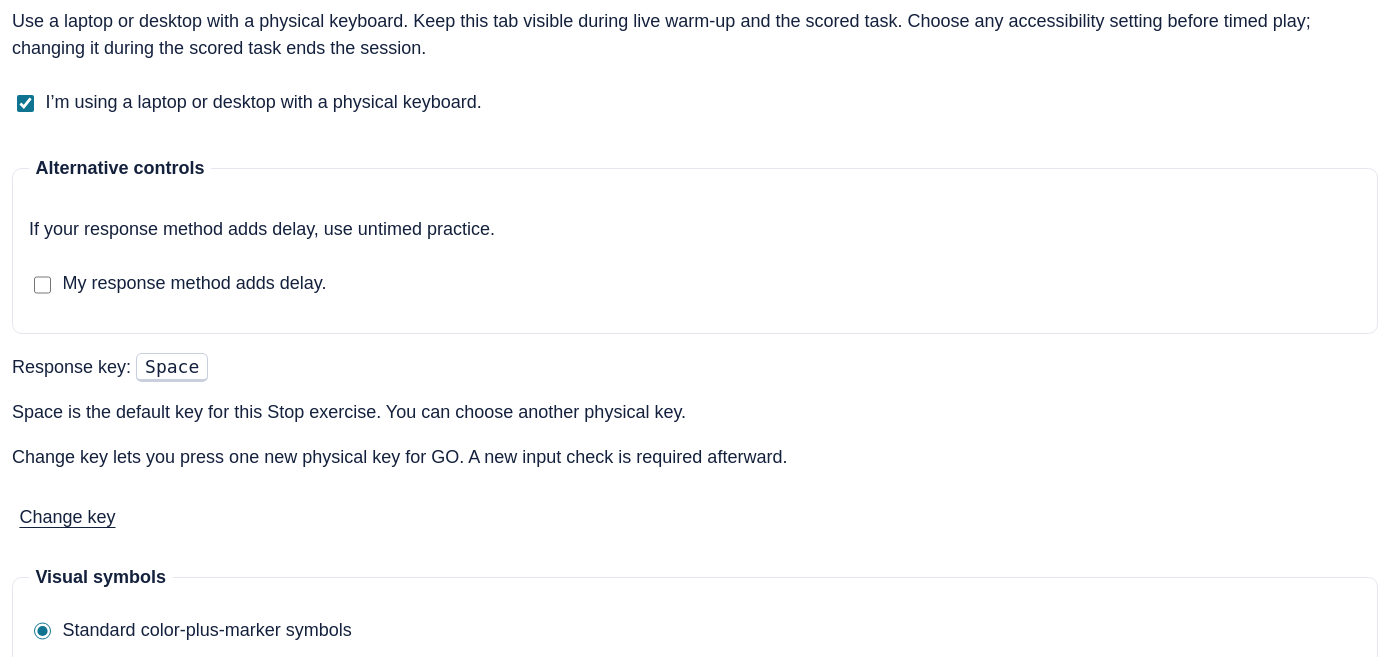
Test: preflight remapping controls › rejects prohibited input {"key":"Escape","code":"Escape"} without changing the binding
Click the button "Change key" at (67, 517), box 12,489 -> 123,545
(page scrolled)
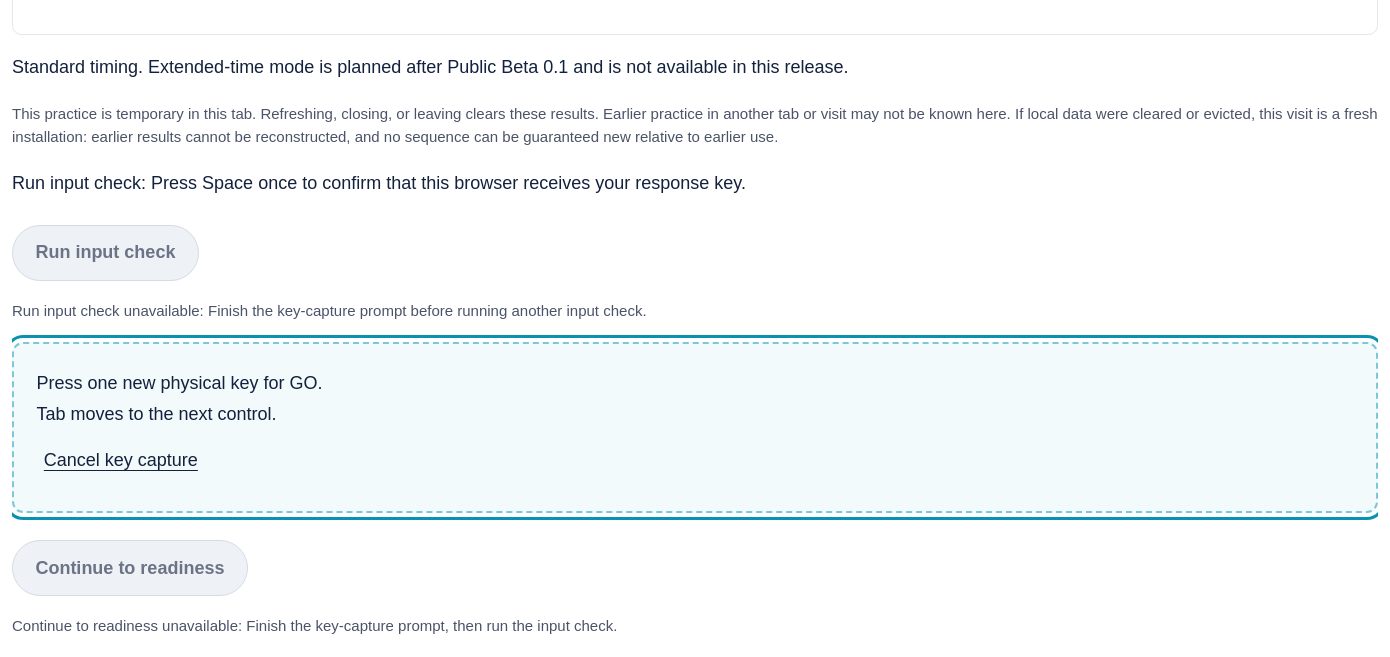
Press Escape in the element named "Choose a response key", box 12,342 -> 1378,513
(page scrolled)
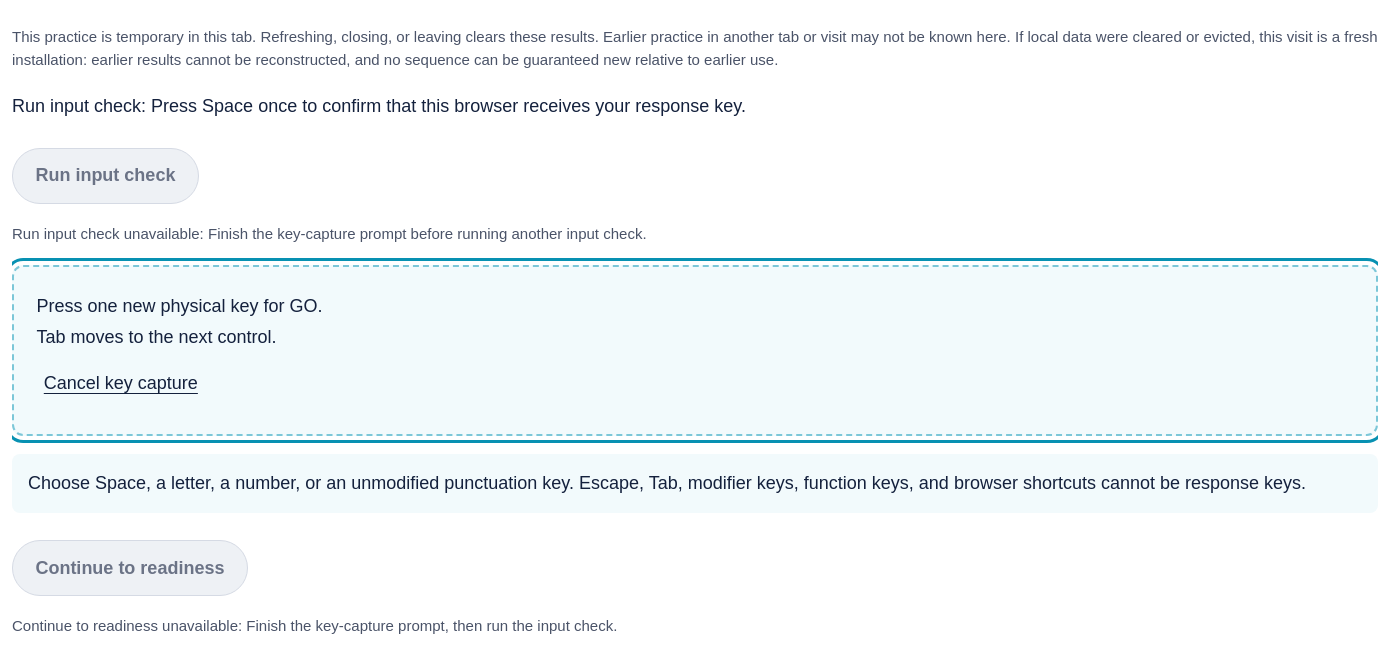
Check: the button "Continue to readiness" is disabled, box 12,540 -> 248,596
Check: the text "Choose Space, a letter" is shown, box 28,473 -> 1306,493
